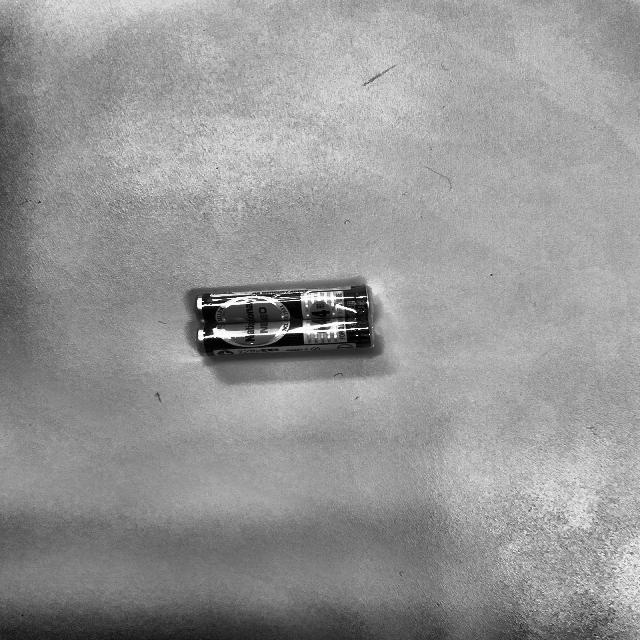drycell: (167, 277, 391, 367)
